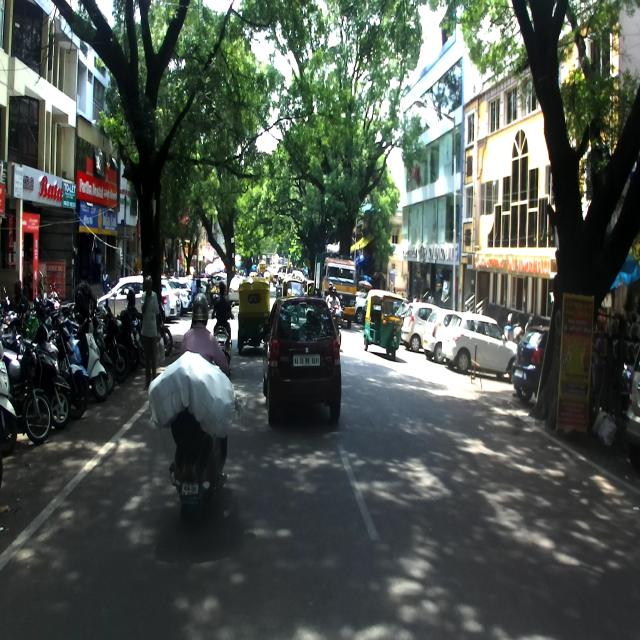car ahead at: (267, 297, 345, 431)
motorcycle ahead at: (163, 425, 227, 530)
